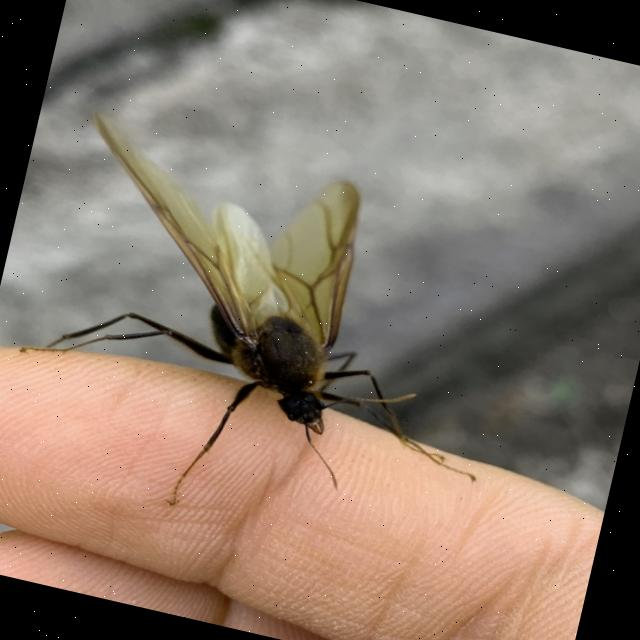Alive-Male-Alate: (0, 105, 538, 572)
